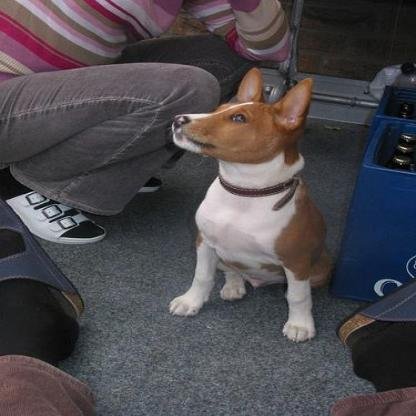basenji: (166, 67, 318, 342)
